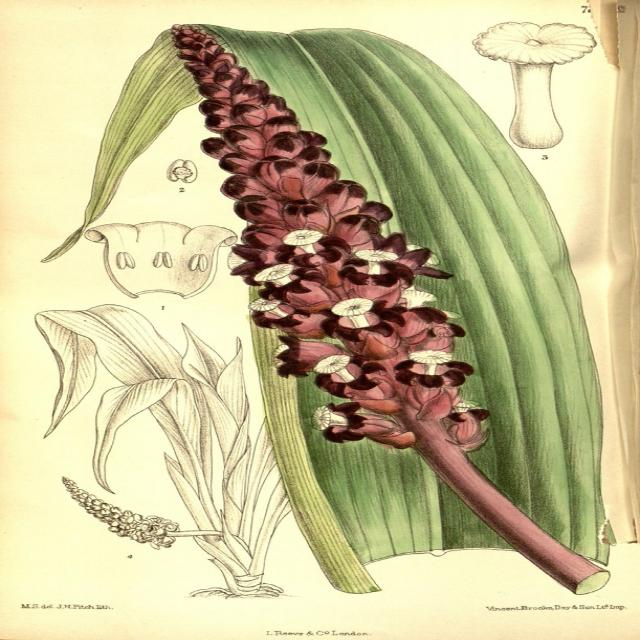Mushroom: (463, 13, 602, 144)
